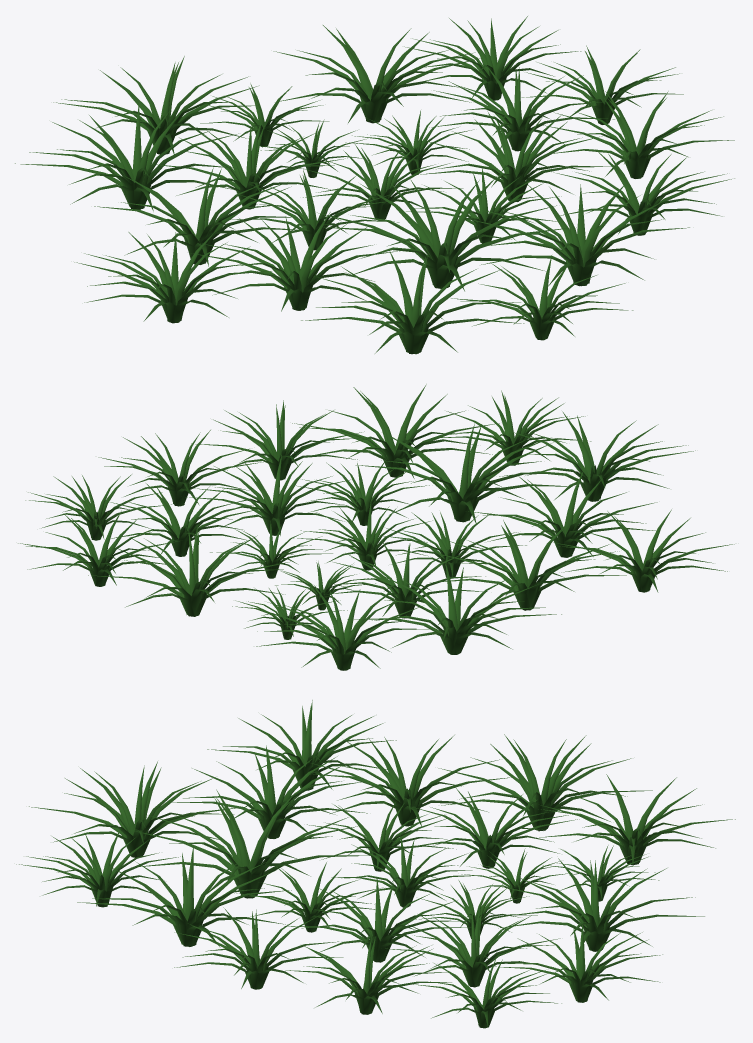
File: SM_Grass_001.fbx
3 views of the same model, one above another, from view 1: azimuth 30°, elevation 25°; view 2: azimuth 150°, elevation 25°; view 3: azimuth 270°, elevation 25° (orthographic). The views are drawn at different scales.
Visible parts, largest first — view 1: Grass; view 2: Grass; view 3: Grass.
Part boxes in pixels (left/top/right/bottom): Grass: left=15, top=16, right=734, bottom=354; Grass: left=18, top=384, right=734, bottom=670; Grass: left=16, top=700, right=735, bottom=1028.
Size of the model in its own units: 594 by 57.23 by 574.
